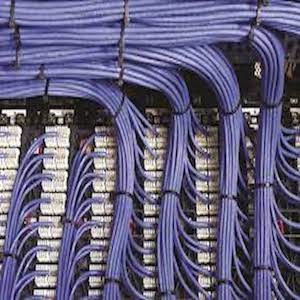combustible: (11, 1, 273, 96), (161, 106, 195, 286), (261, 109, 290, 293), (219, 112, 244, 291)
